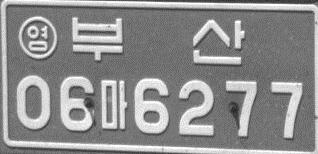0: (15, 73, 50, 130)
2: (176, 79, 216, 137)
6: (132, 77, 170, 135), (58, 75, 94, 131)
7: (269, 79, 304, 141), (224, 79, 259, 140)
마: (99, 78, 129, 133)
부산_D: (69, 15, 245, 65)
영: (18, 15, 57, 61)
